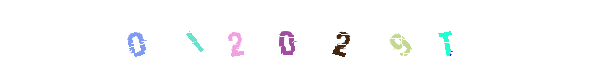0: (262, 0, 342, 80)
2: (252, 0, 332, 80), (300, 0, 380, 80)
9: (301, 0, 381, 80)
I: (202, 0, 282, 80)
O: (100, 0, 180, 80)
T: (358, 0, 438, 80)
